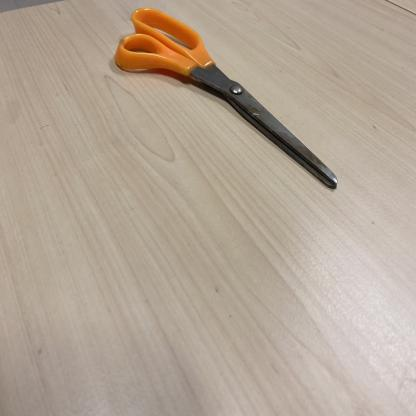scissors: (114, 7, 340, 191)
